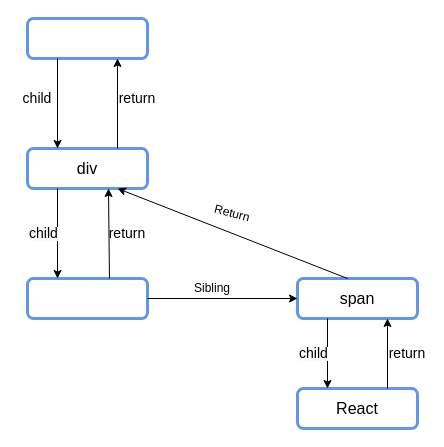
The diagram is 444 pixels wide and 447 high, and some of its shapes have lost their labels. Each missing label, with the centre of its shape:
APP: point (87, 38)
Hello: point (87, 298)
